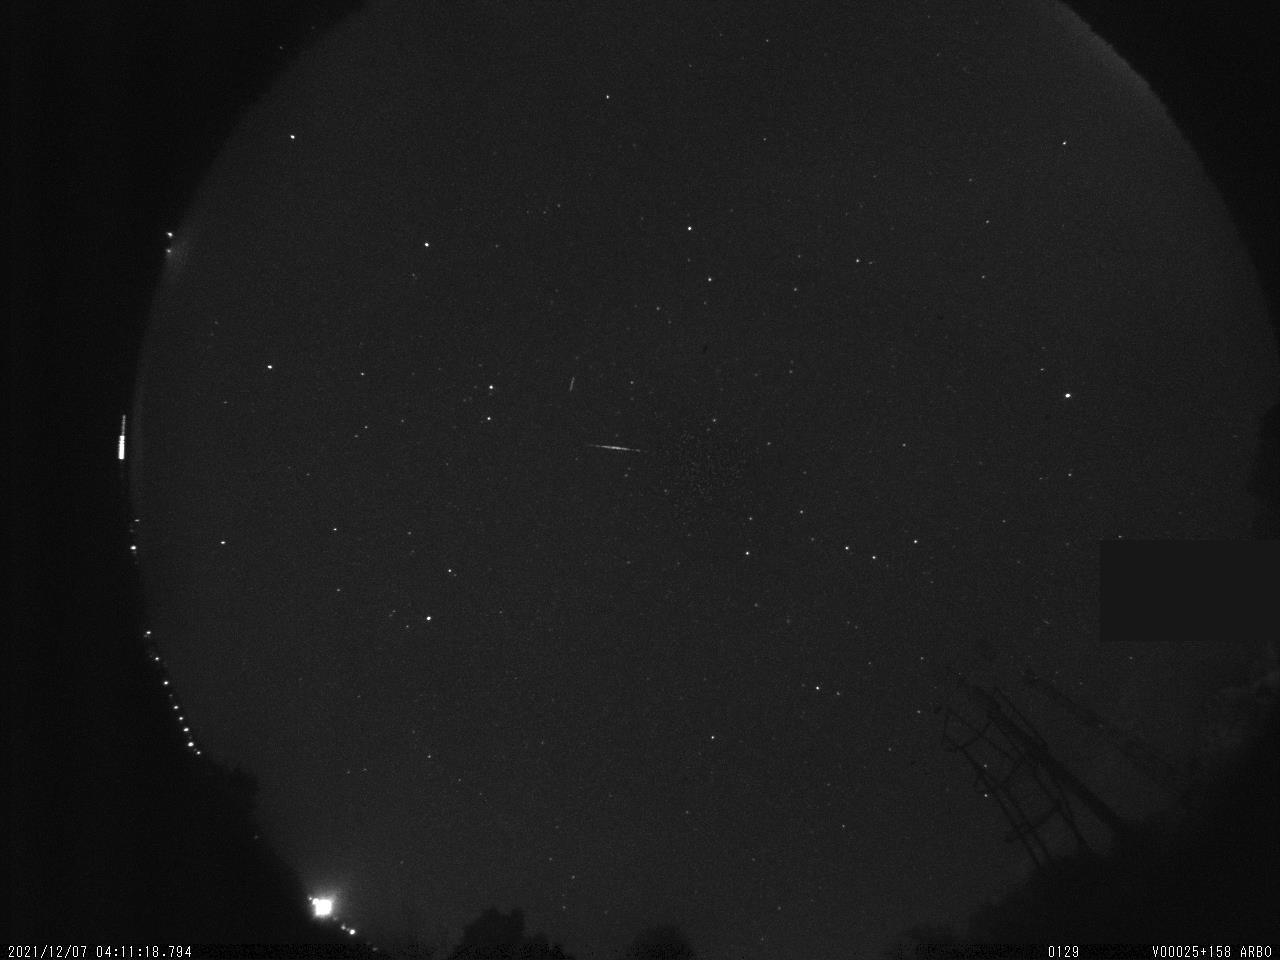Meteor: (584, 440, 645, 455)
